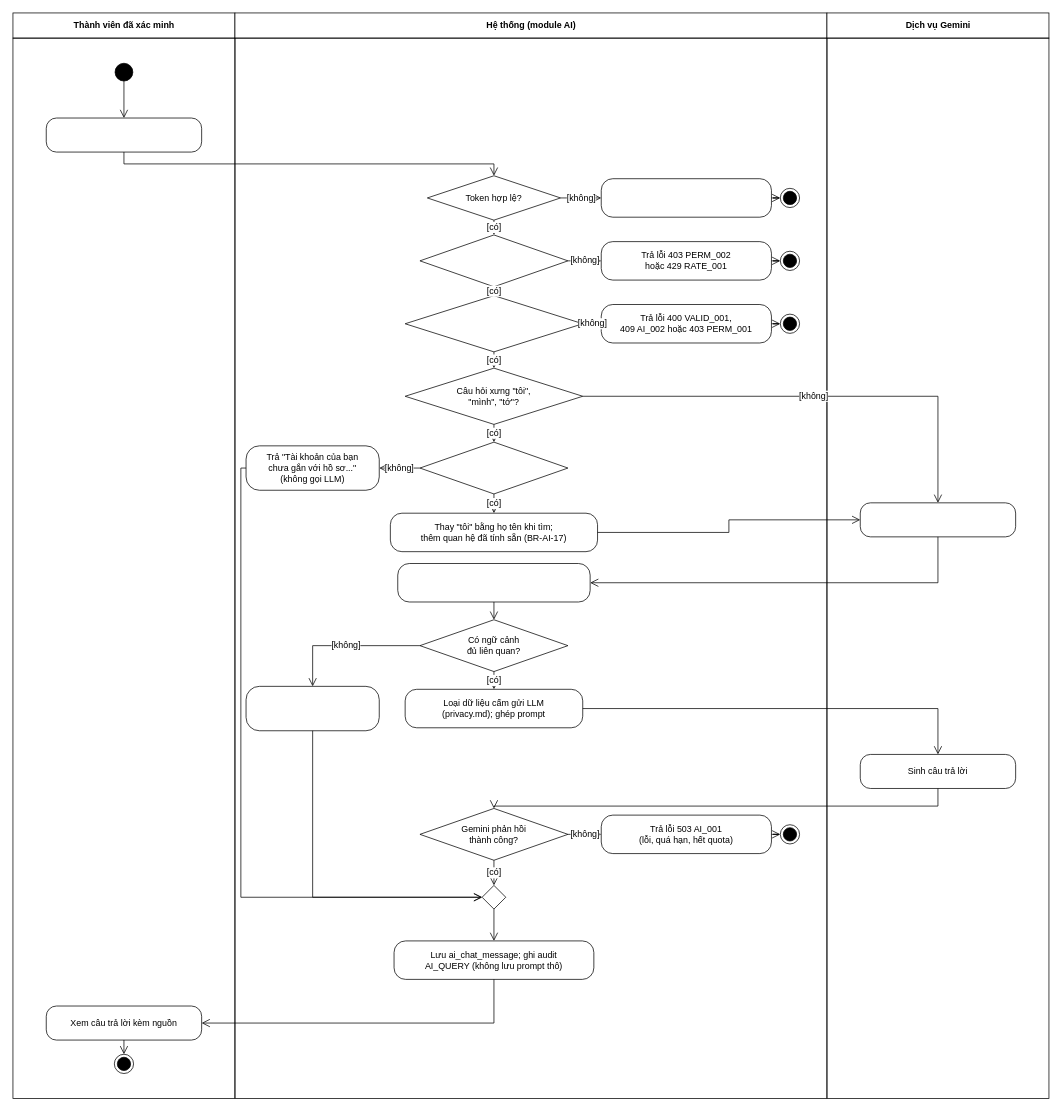
This 1062x1111 diagram has some shape labels left out. The shapes that lost their labels are listed below. From the top down, each one's box as (x1, y1, x2, y2) in pixels, then its label:
(46, 117, 202, 152): Nhập câu hỏi
(601, 178, 771, 217): Trả lỗi 401 AUTH_002
(419, 234, 568, 287): Đã xác minh và chưa vượt 20 câu/giờ?
(404, 295, 583, 352): Câu hỏi hợp lệ, chatbot bật, phiên chat của mình?
(419, 441, 568, 494): Tài khoản đã gắn hồ sơ gia phả?
(860, 502, 1016, 537): Tạo embedding cho câu hỏi
(397, 563, 590, 602): Tìm top-k đoạn ngữ cảnh, lọc family_id và chi được xem
(245, 686, 379, 731): Trả "Không tìm thấy thông tin." (không gọi LLM)
